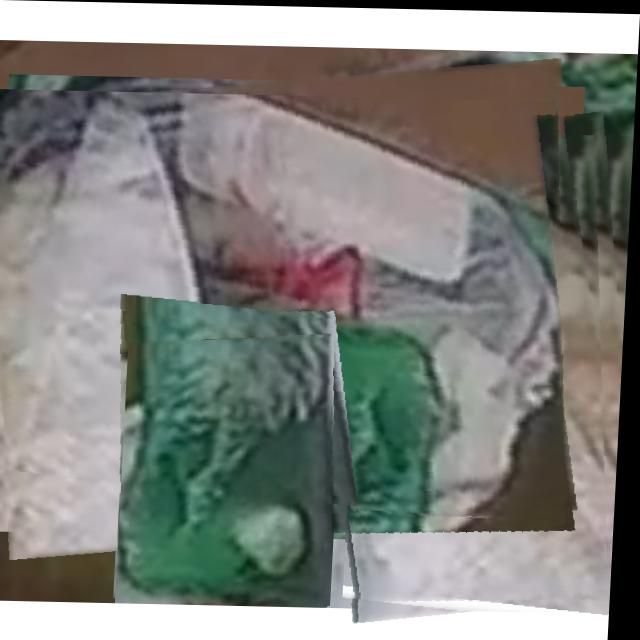general_trashbag: (124, 335, 333, 605)
other_trashbag: (0, 91, 567, 514), (353, 129, 615, 601)
